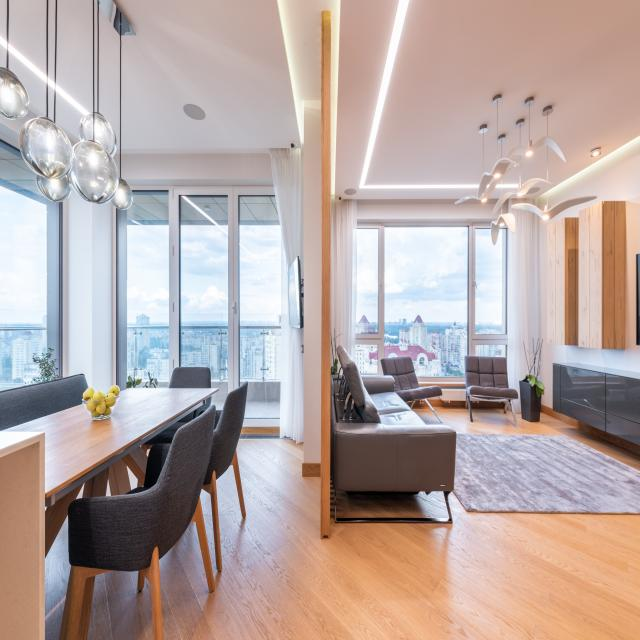floor: (159, 439, 640, 640), (411, 406, 640, 471), (86, 570, 153, 640), (45, 515, 71, 640), (336, 491, 450, 519)
wall: (538, 216, 640, 409), (303, 101, 321, 478), (546, 156, 640, 224), (68, 186, 93, 388), (121, 153, 273, 180), (92, 201, 113, 393), (356, 198, 501, 219), (625, 201, 640, 350), (0, 115, 32, 134), (113, 205, 116, 385), (112, 154, 120, 177), (502, 198, 509, 214)
